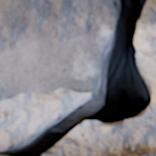brick: (131, 153, 155, 155)
broken_brick: (0, 0, 116, 101), (137, 0, 155, 64)
crack: (0, 0, 154, 155)
